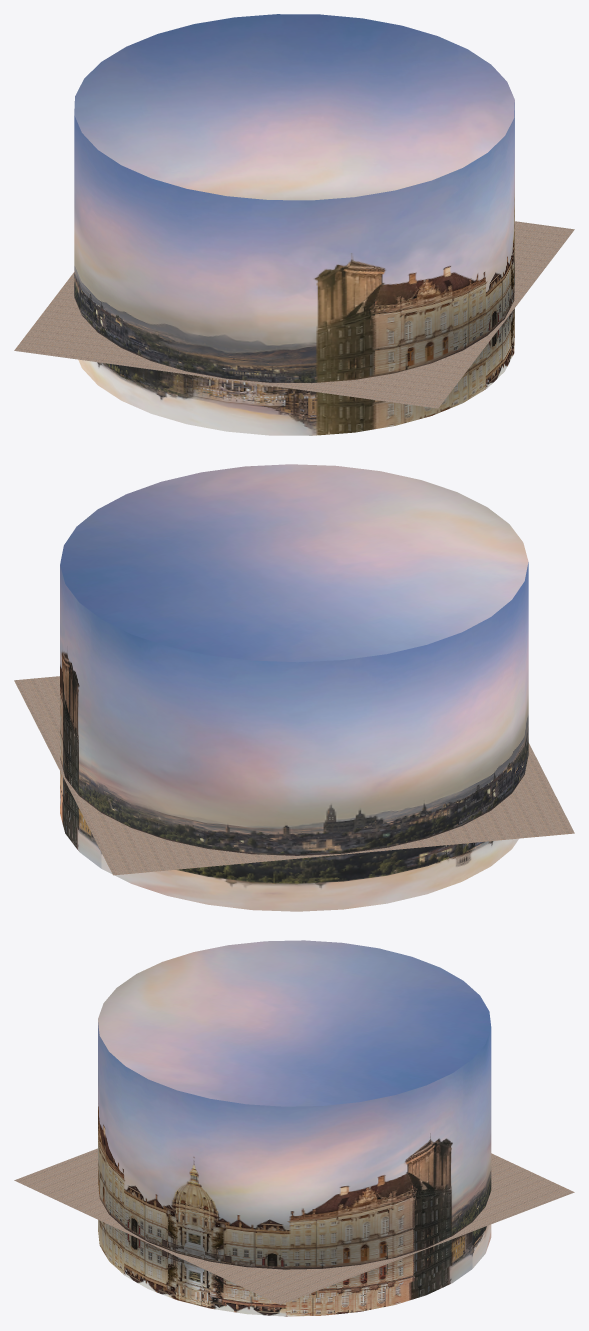
File: changjing_2.glb
3 renders of one model, top to bottom at view 1: azimuth 30°, elevation 25°; view 2: azimuth 150°, elevation 25°; view 3: azimuth 270°, elevation 25°, orthographic. The views are drawn at different scales.
Parts seen in each view (by area): view 1: oswaijing, oswaijingdimian; view 2: oswaijing, oswaijingdimian; view 3: oswaijing, oswaijingdimian.
Part boxes in pixels (bbox=[...]): oswaijing: bbox=[74, 14, 514, 435]; oswaijingdimian: bbox=[14, 221, 574, 408]; oswaijing: bbox=[60, 464, 528, 911]; oswaijingdimian: bbox=[14, 676, 574, 875]; oswaijing: bbox=[98, 940, 491, 1316]; oswaijingdimian: bbox=[14, 1148, 574, 1304].
Size of the model in its own units: 245 by 101 by 245.
Materials: 2 (2 with a texture image).
